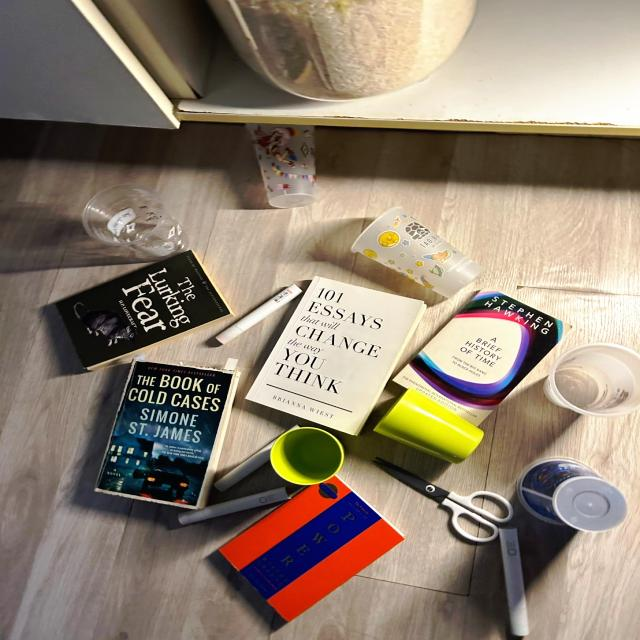Book: (246, 276, 426, 435), (219, 476, 404, 621), (395, 291, 564, 424), (95, 360, 239, 510), (57, 250, 233, 371)
HighLight Pen: (215, 423, 304, 492), (215, 284, 302, 345), (178, 488, 292, 525), (498, 528, 529, 637)
Plastic Cup: (352, 207, 481, 298), (516, 458, 626, 532), (82, 185, 187, 262), (545, 343, 639, 418), (245, 123, 315, 208)
Scissors: (374, 458, 513, 543)
WaterGlass: (374, 389, 483, 463), (270, 427, 344, 486)
